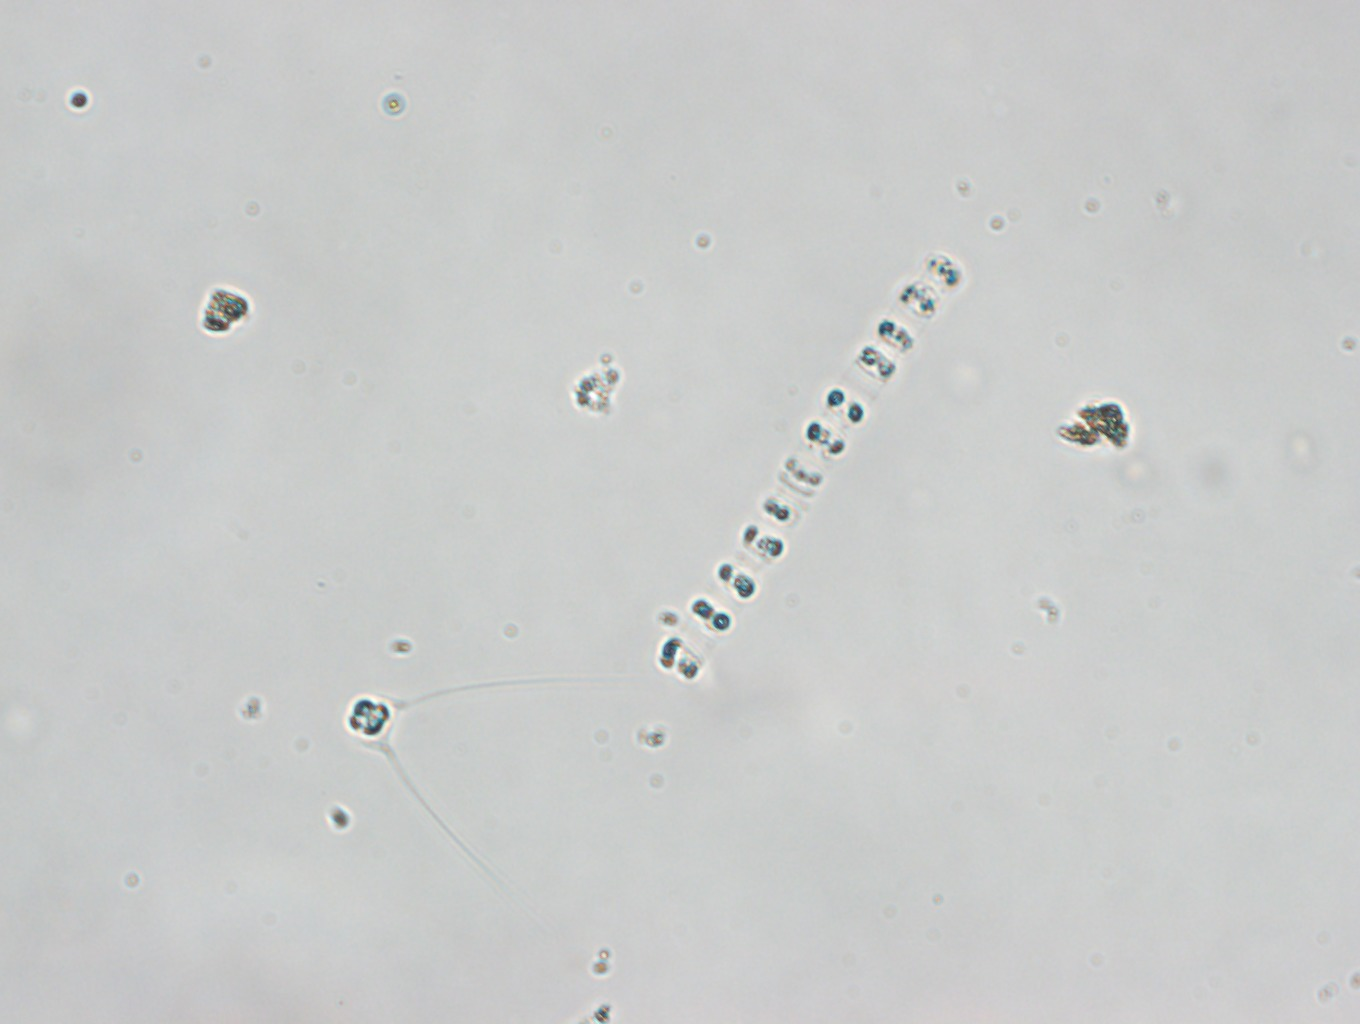chaetoceros: (341, 675, 595, 878)
skeletonema: (655, 245, 965, 684), (653, 243, 963, 682)
